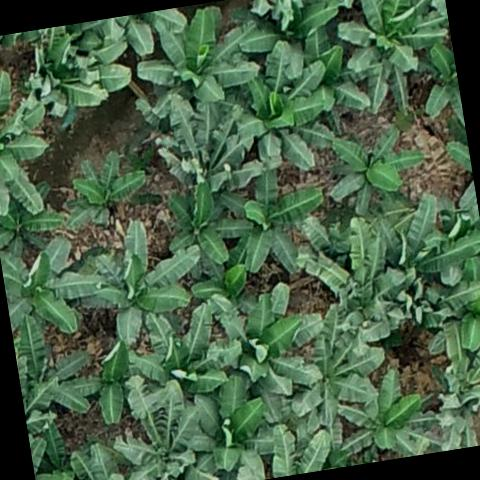Banana-plant: (63, 206, 213, 358), (206, 32, 341, 184), (195, 272, 336, 410), (289, 200, 420, 346), (202, 149, 338, 288), (107, 292, 244, 421), (140, 81, 270, 210), (268, 310, 395, 440), (128, 0, 266, 117), (14, 15, 142, 132), (0, 220, 113, 345), (150, 172, 263, 292), (98, 374, 222, 480), (317, 361, 434, 468), (9, 303, 110, 426), (367, 181, 480, 285), (318, 118, 435, 218), (324, 0, 455, 84), (230, 0, 350, 88), (0, 65, 62, 232), (190, 368, 276, 474), (418, 313, 480, 451), (56, 145, 153, 225)
